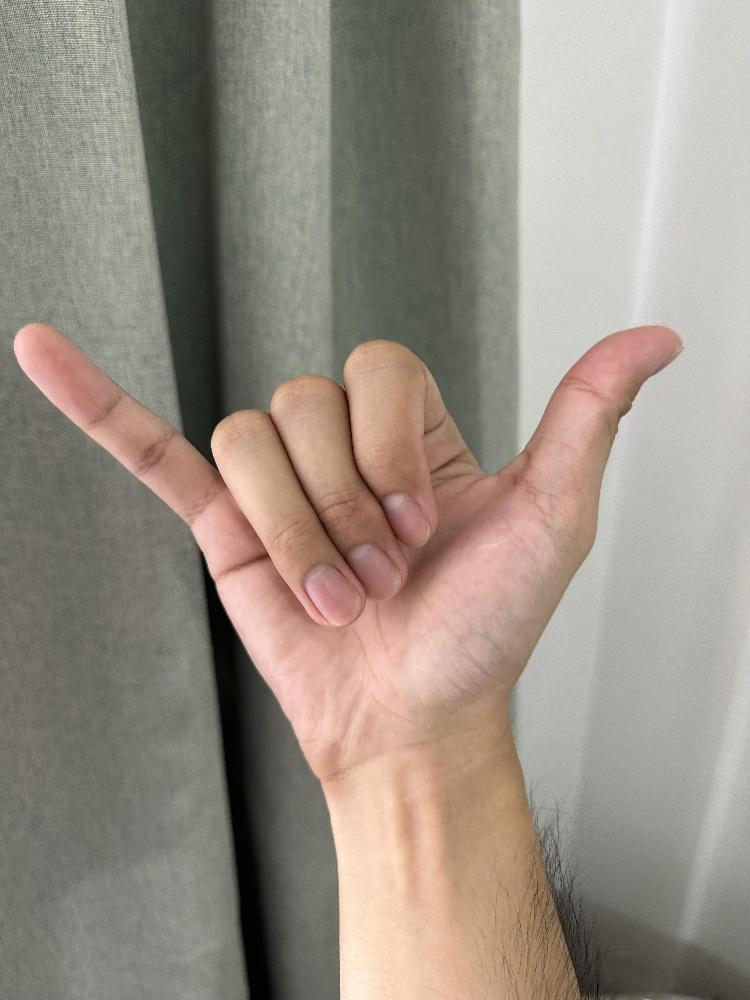y: (10, 315, 687, 781)
